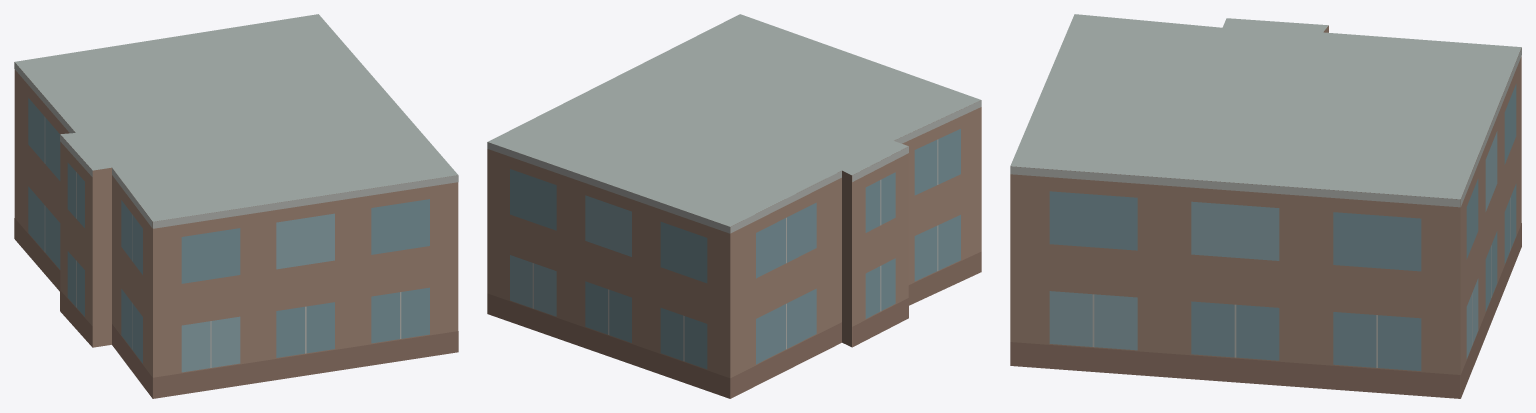
Rendered from survey-upis-32868846.glb.
3 renders of one model, left to right at view 1: azimuth 30°, elevation 25°; view 2: azimuth 150°, elevation 25°; view 3: azimuth 270°, elevation 25°, orthographic. The views are drawn at different scales.
Visible parts, largest first — view 1: survey-upis-32868846.tmp; view 2: survey-upis-32868846.tmp; view 3: survey-upis-32868846.tmp.
Boxes of the visible parts, bbox=[...] form: survey-upis-32868846.tmp: bbox=[14, 14, 458, 398]; survey-upis-32868846.tmp: bbox=[487, 14, 981, 398]; survey-upis-32868846.tmp: bbox=[1010, 14, 1521, 398].
Bounding box in the file's own units: 12.17 × 6.1 × 14.19.
